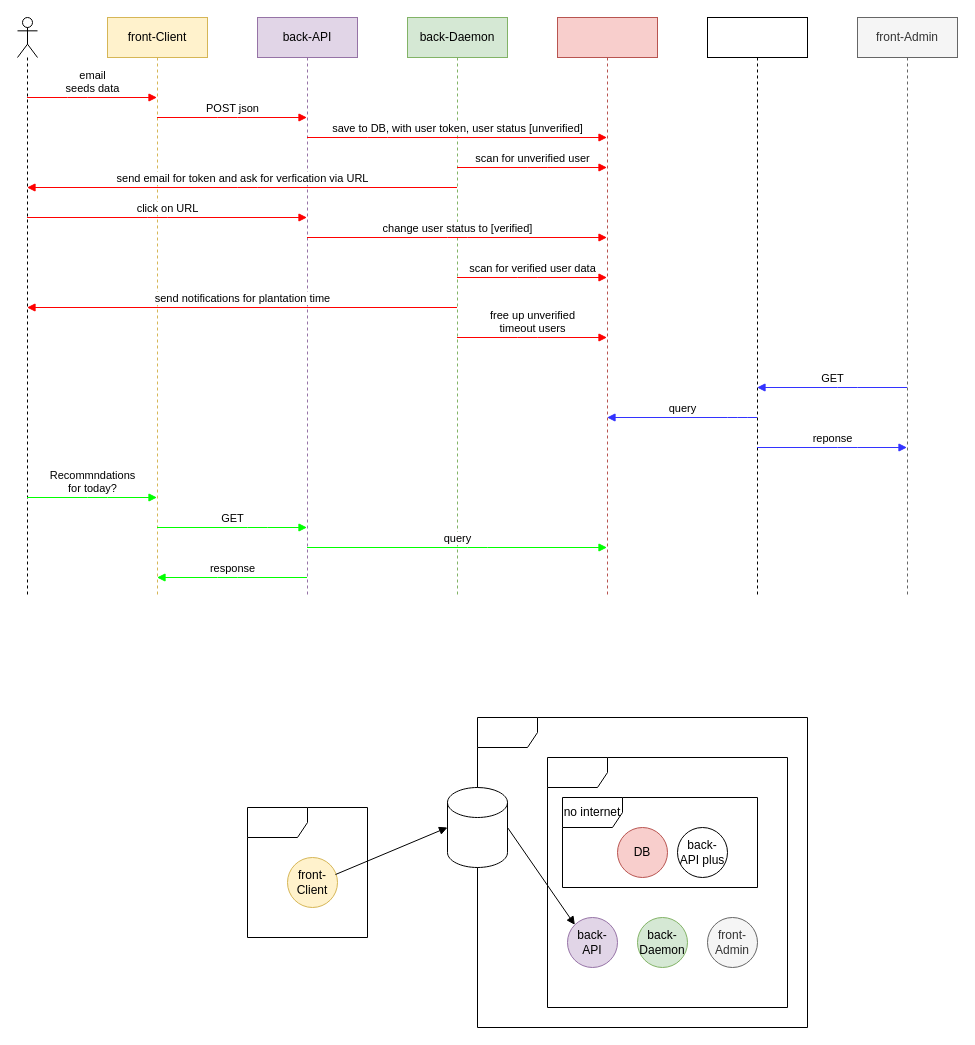
This 975x1045 diagram has some shape labels left out. The box of each missing label's shape, as (x1, y1, x2, y2) in pixels:
back-API-plus: (706, 16, 808, 598)
database: (556, 16, 658, 598)
github.io: (246, 806, 368, 938)
k8s: (546, 756, 788, 1008)
nginx: (446, 786, 508, 868)
raspberry pi: (476, 716, 808, 1028)
